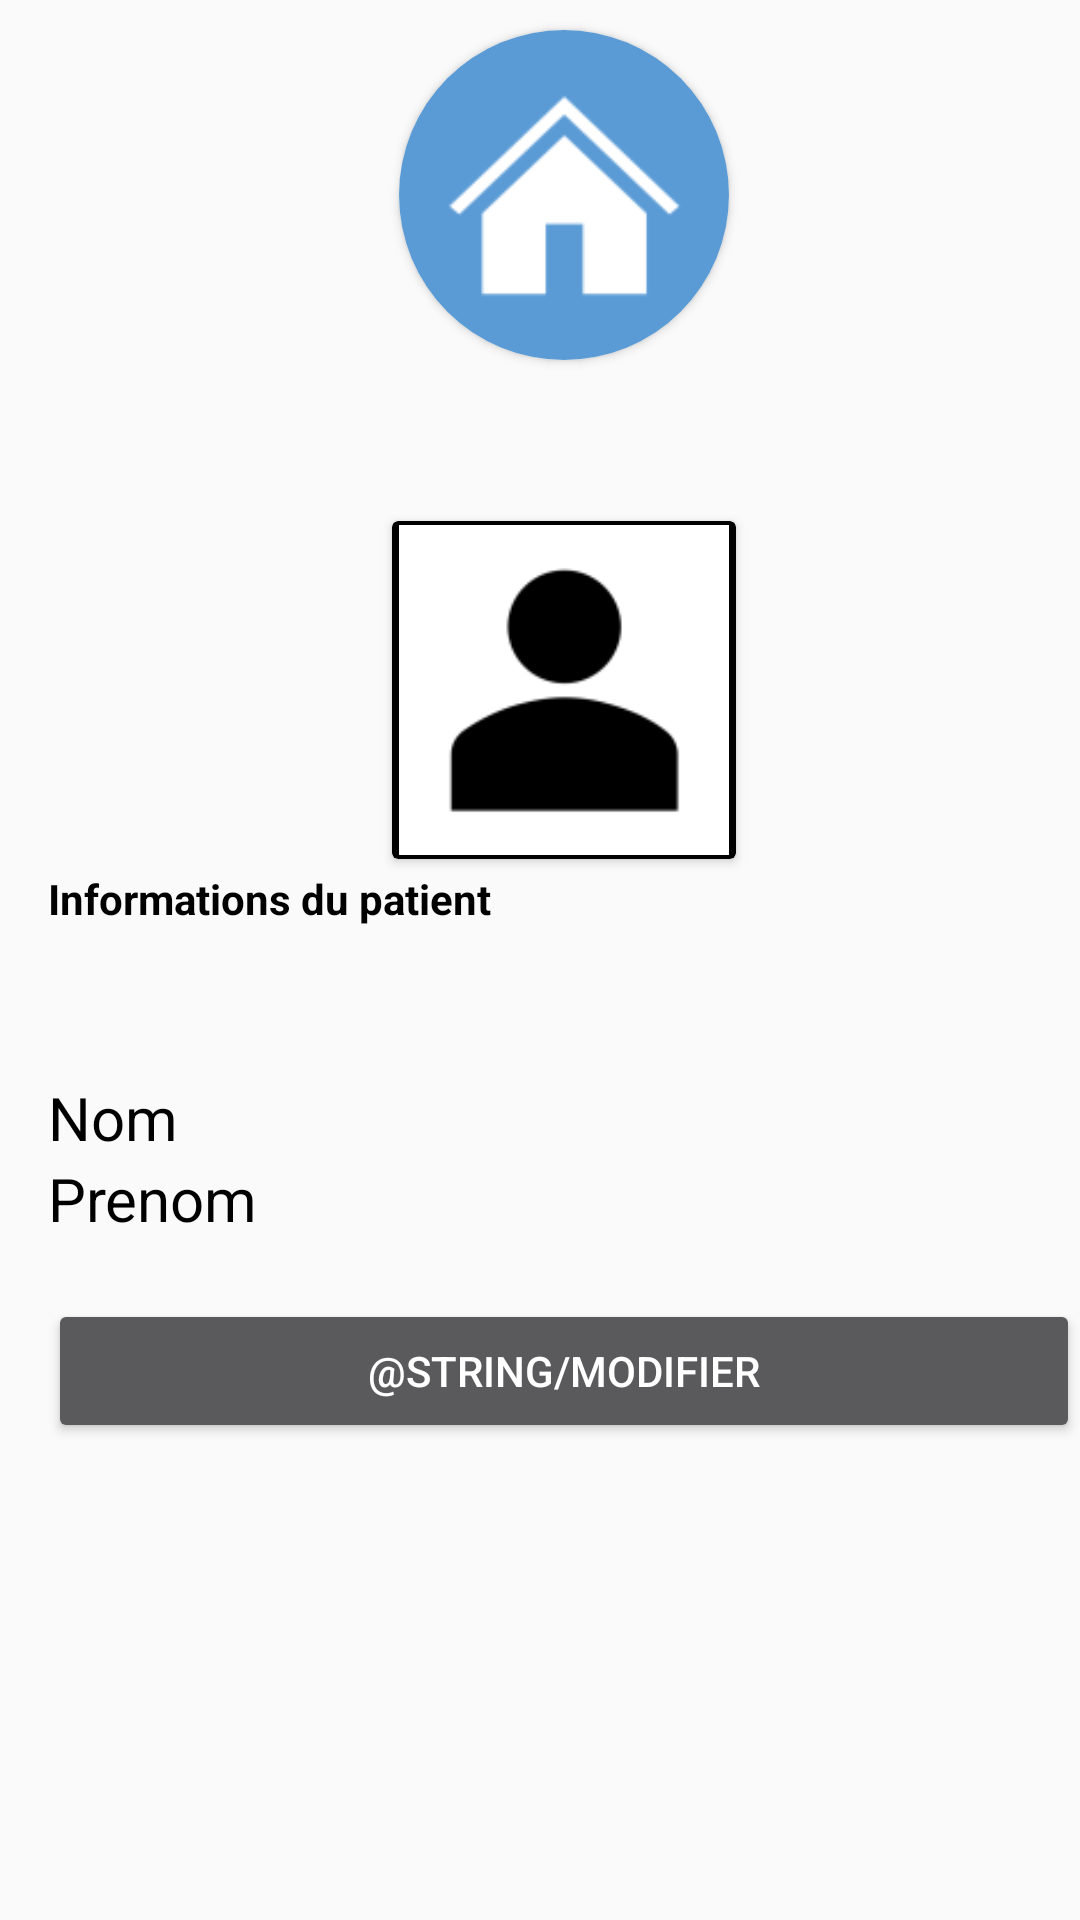

Named icons in this screenshot (1080px×1920px) and their bounding boxes, (x1, y1, x2, y2):
home: (399, 30, 729, 360)
